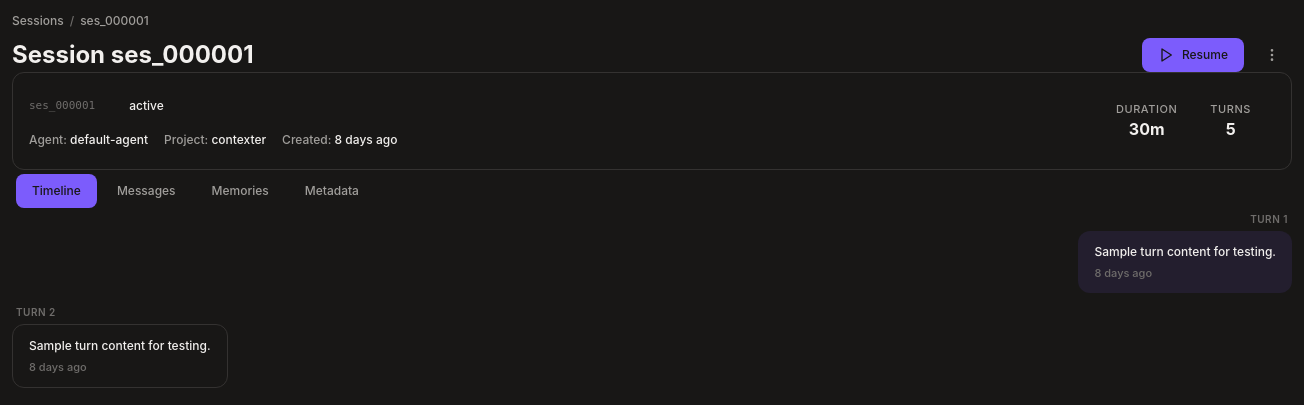
it: SessionDetailPage › switches to Memories tab and shows tags
Expected: the heading "Session ses_000001" is shown, [12,39,254,71]
Click the tab "Memories". click: (240, 191)
box: [196,174,285,208]
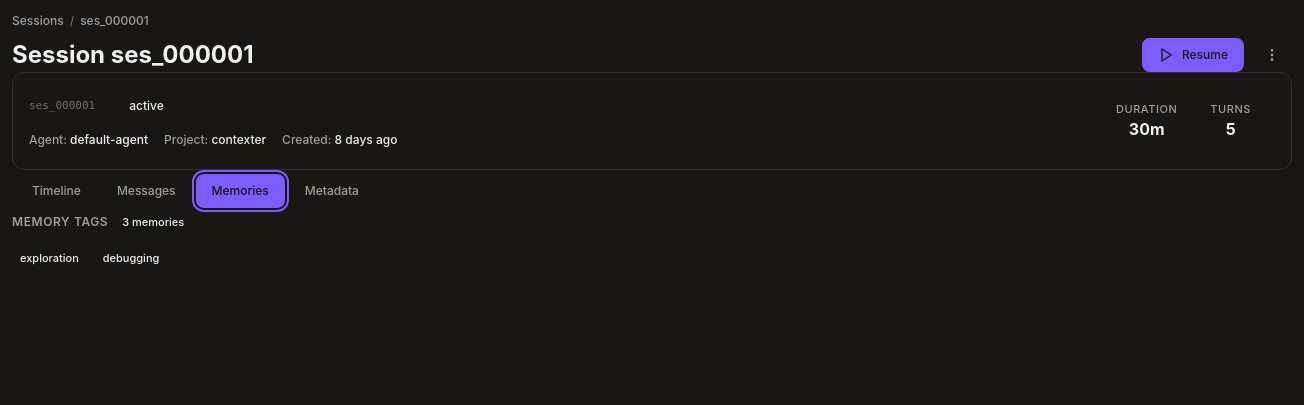
Result: the heading "Memory Tags" is shown at [12,213,108,231]
Result: the text "exploration" is shown at [20,250,79,266]
Result: the text "debugging" is shown at [103,250,159,266]
